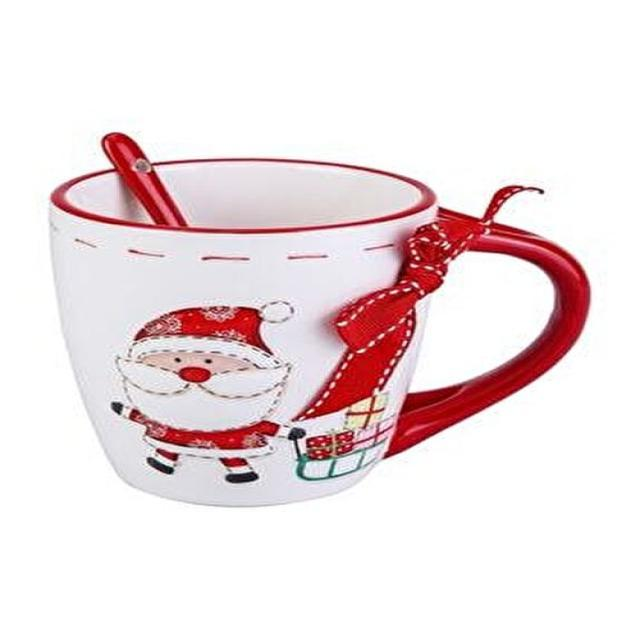Coffee Mug: (46, 157, 593, 514)
